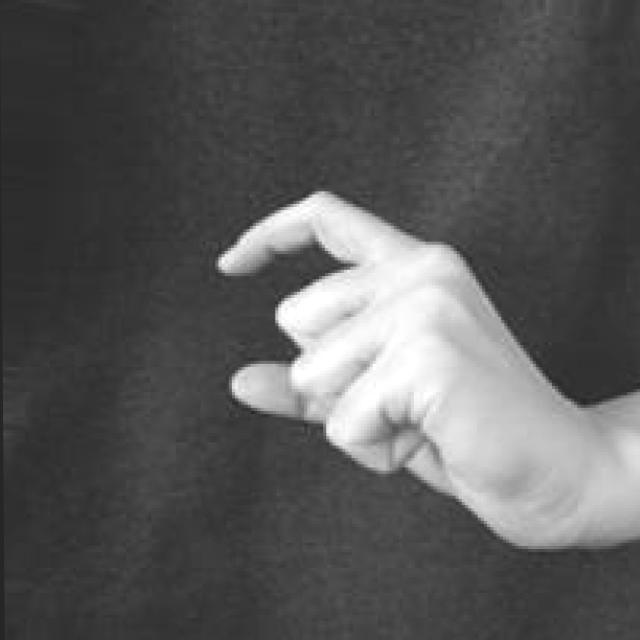C: (215, 185, 600, 553)
